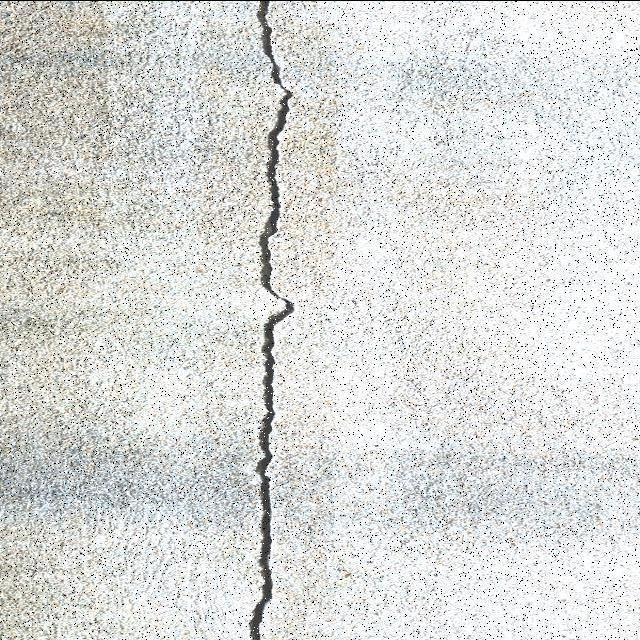crack: (247, 1, 294, 638), (259, 72, 290, 300), (256, 3, 290, 98)
